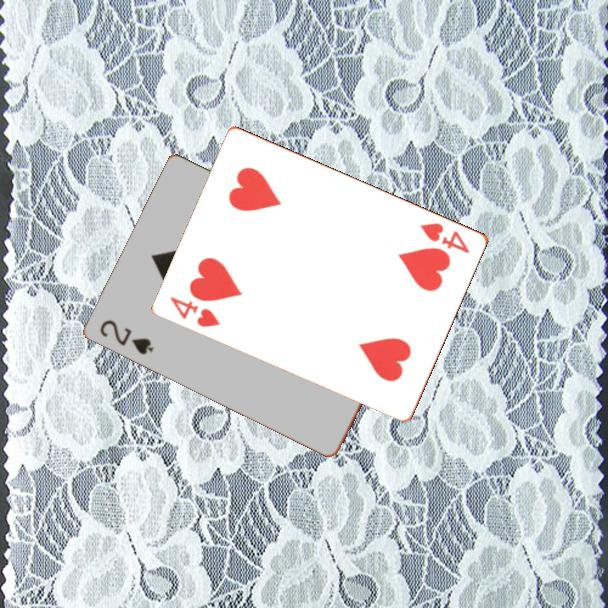h04: (167, 293, 224, 330), (417, 219, 473, 256)
s02: (97, 316, 157, 358)
